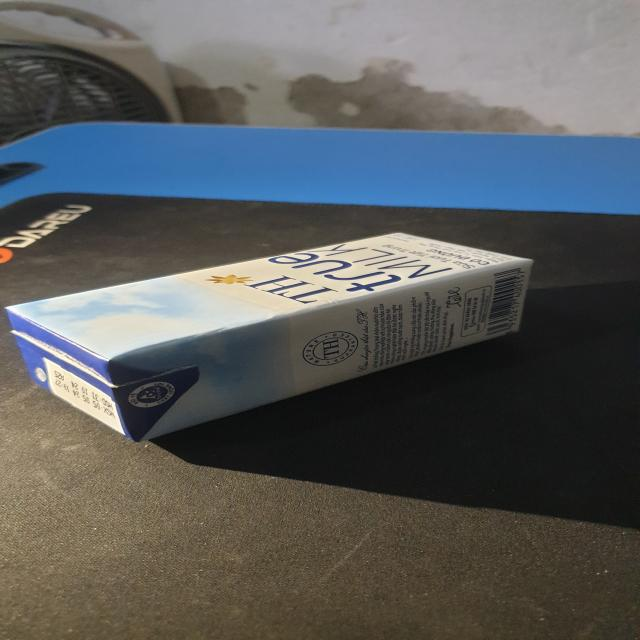TH: (8, 231, 537, 444)
